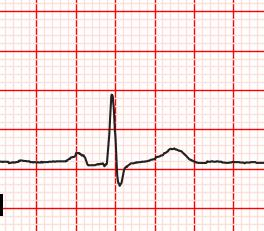LVH: (151, 143, 198, 164)
ST Depression: (102, 156, 135, 189)
